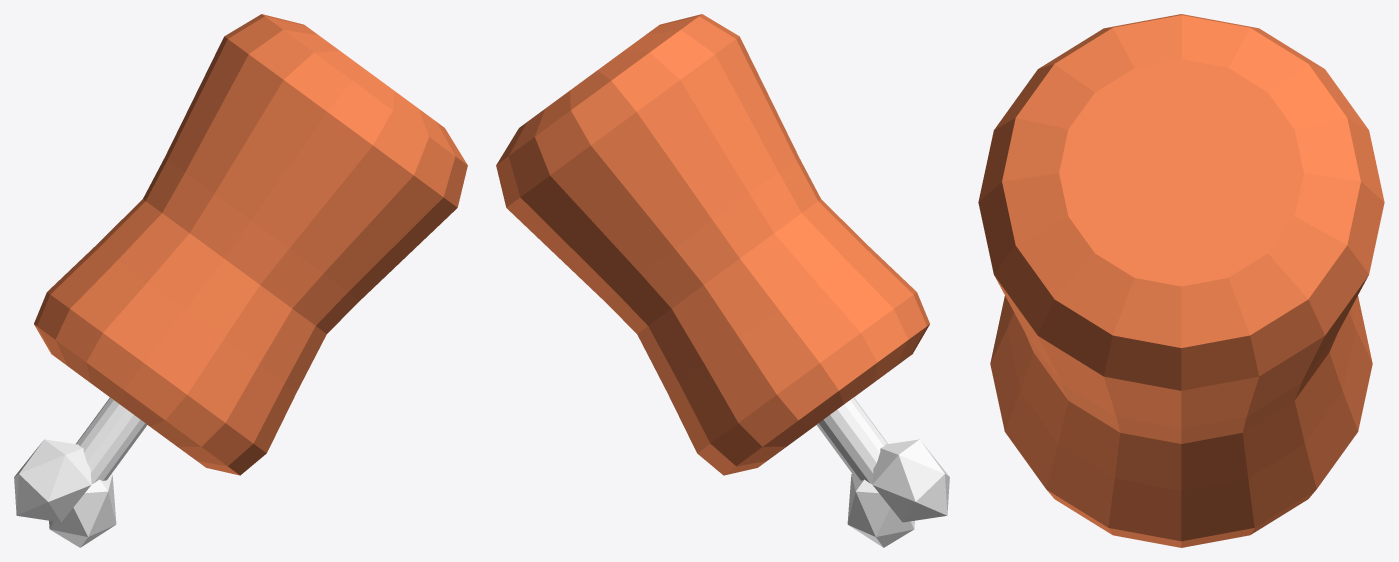
Rendered from pork_meat.fbx.
3 views of the same model, side by side, from view 1: azimuth 30°, elevation 25°; view 2: azimuth 150°, elevation 25°; view 3: azimuth 270°, elevation 25° (orthographic). The views are drawn at different scales.
Parts seen in each view (by area): view 1: meat; view 2: meat; view 3: meat.
Part boxes in pixels (x1,y1,x2,y2): meat: [14, 14, 467, 547]; meat: [496, 14, 949, 547]; meat: [978, 14, 1384, 547].
Size of the model in its own units: 290 by 303 by 171.
